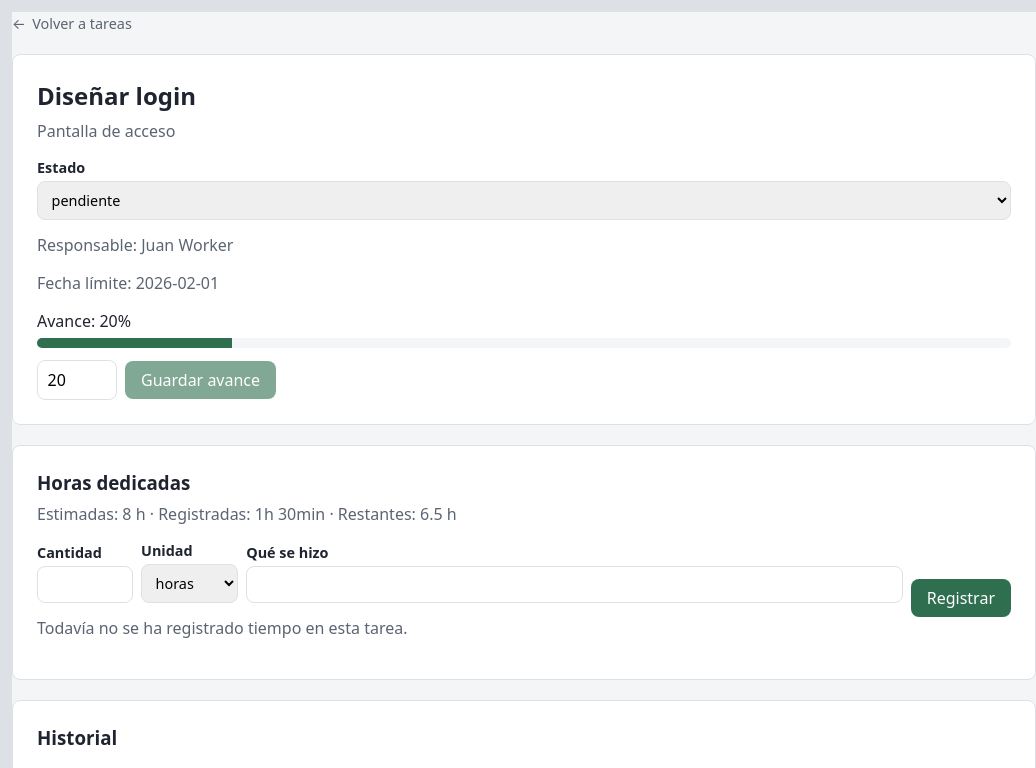
it: SupervisorTaskDetail › muestra un mensaje genérico si el cambio de estado falla sin ser un ApiError
Check: the heading "Diseñar login" is shown, box [37,79,196,112]
Select "hecha" in the dropdown labelled "Estado" at (524, 200), box [37,181,1011,220]
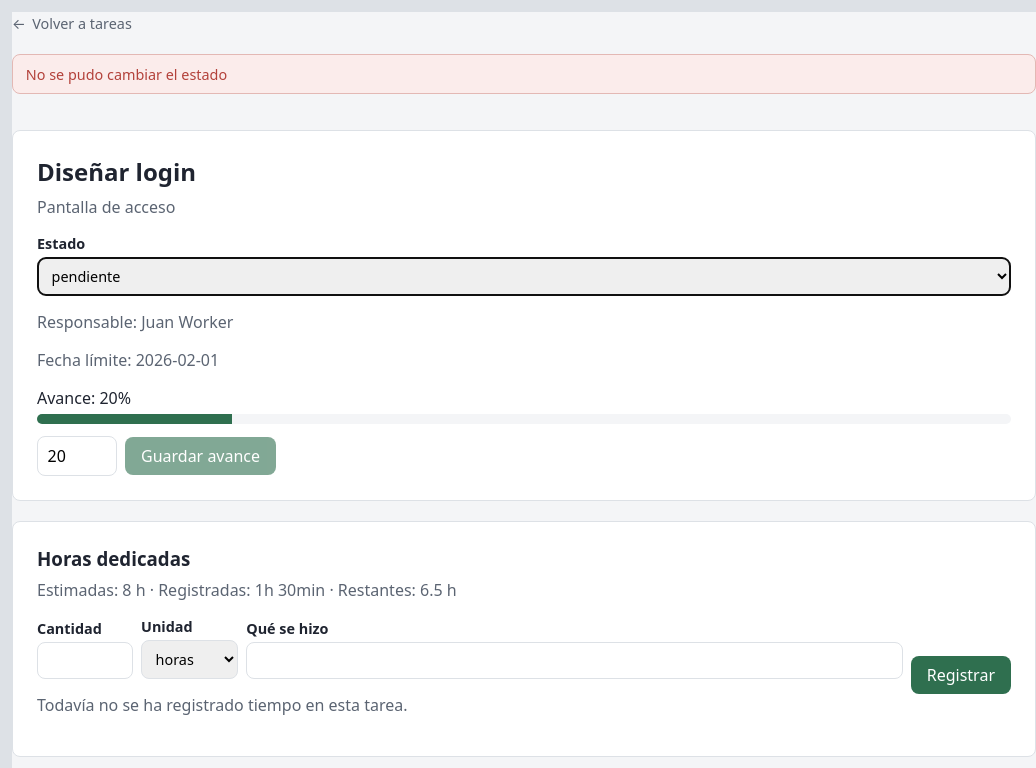
Check: the text "No se pudo cambiar el estado" is shown, box [12,54,1035,94]
